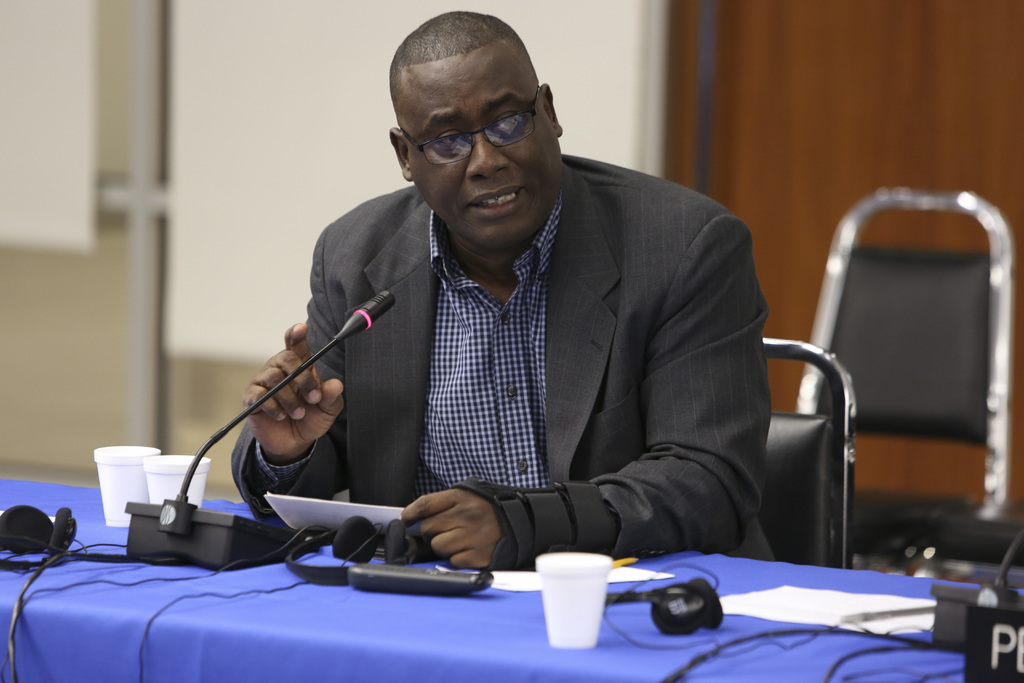Human_hand: (238, 319, 346, 462), (393, 494, 508, 573)
